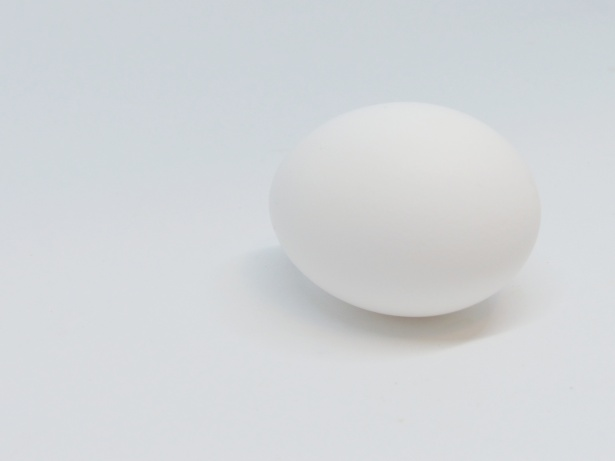Egg: (264, 93, 547, 326)
